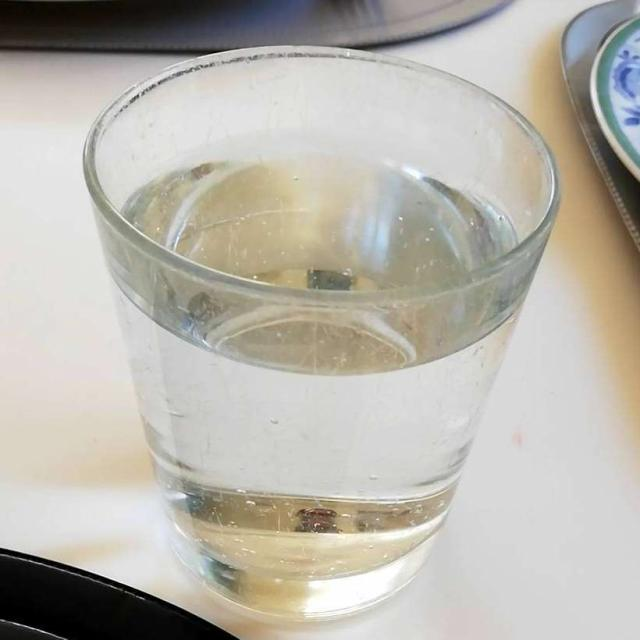water: (121, 142, 519, 582)
